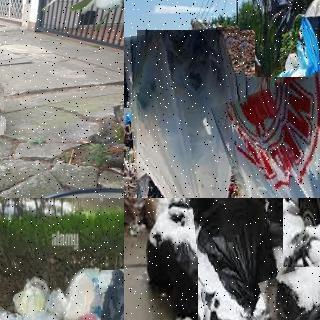Garbage: (129, 27, 262, 198), (228, 67, 320, 198), (194, 198, 286, 320), (143, 202, 215, 317), (293, 11, 320, 182), (267, 262, 320, 320), (210, 68, 252, 134), (64, 266, 103, 319), (99, 269, 124, 320), (28, 310, 61, 320)
